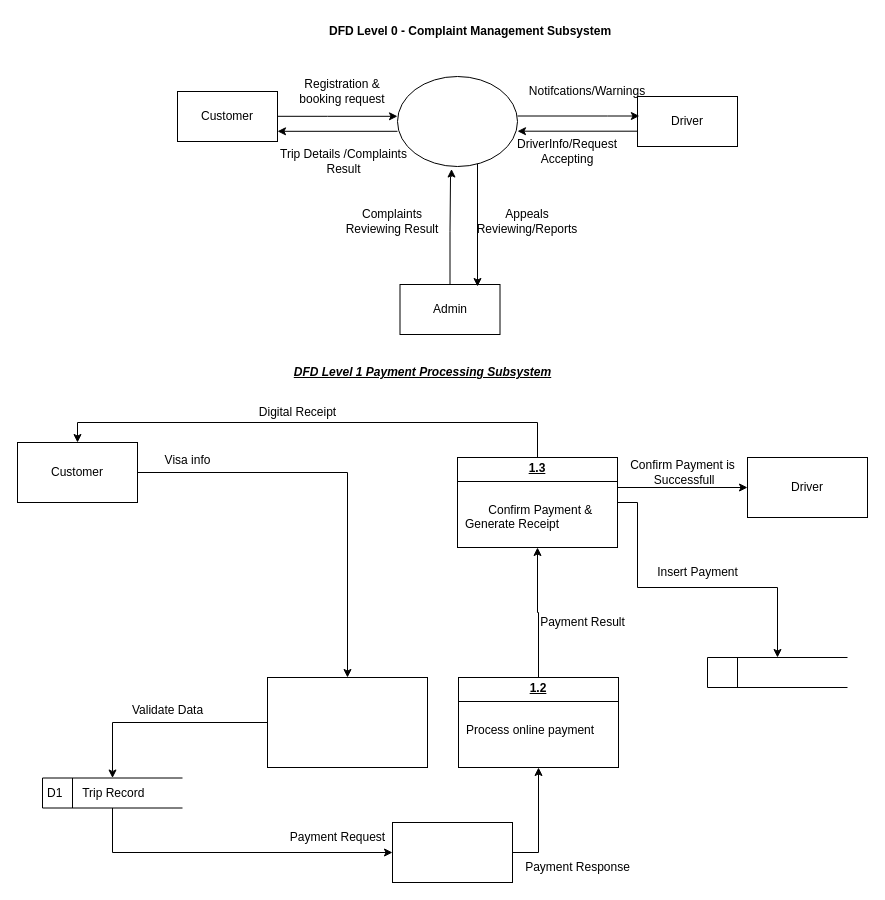
Some shapes in this 885 by 900 pixel diagram are drawn without their labels. The centre of each missing label's shape, as x and y in pixels:
"(0) Transportation System" goes at (x=457, y=121).
"1.1 Validate Trip & Amount" goes at (x=347, y=722).
"D2 Payment Record" goes at (x=777, y=672).
"Payment Gateway" goes at (x=452, y=852).
